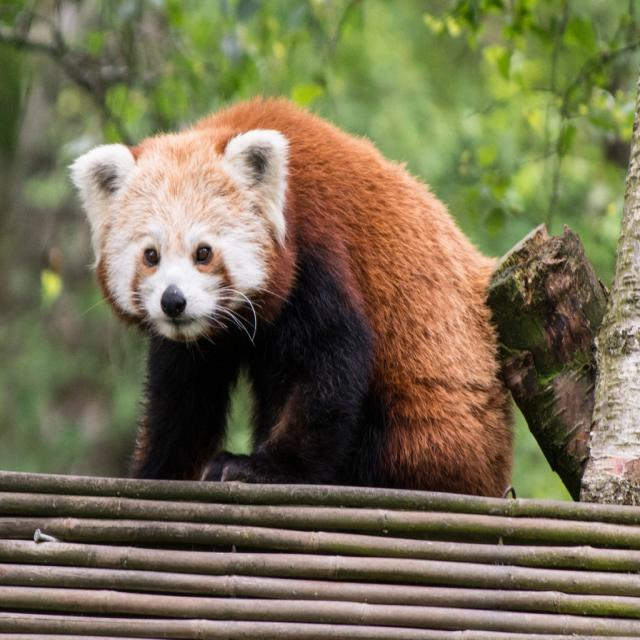Bear: (66, 91, 519, 496)
